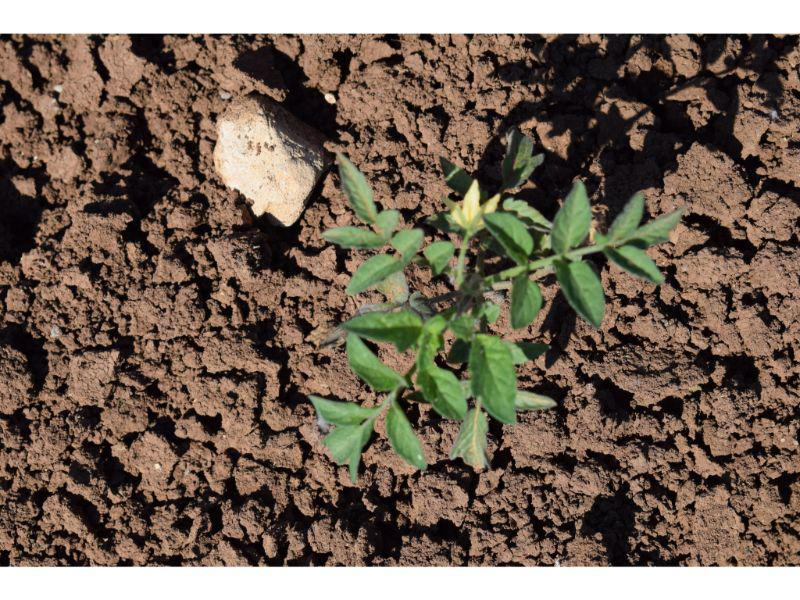tomato: (309, 146, 684, 478)
